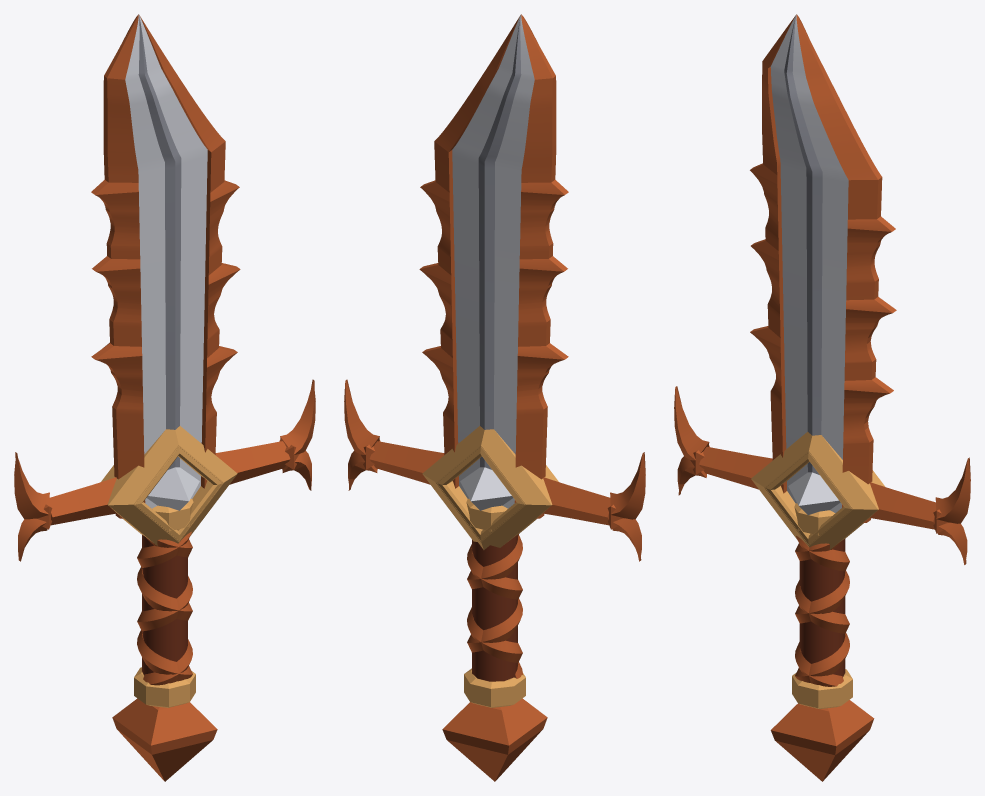
File: EpeeBronzeFer.fbx
3 views of the same model, side by side, from view 1: azimuth 30°, elevation 25°; view 2: azimuth 150°, elevation 25°; view 3: azimuth 330°, elevation 25° (orthographic).
Parts seen in each view (by area): view 1: Fil, Lame, Cadre, Gorge, Pommeau, Tresse, Bras, Embout, Manche, Garde, Gemme; view 2: Fil, Lame, Cadre, Gorge, Pommeau, Bras, Tresse, Embout, Manche, Garde, Gemme; view 3: Fil, Lame, Cadre, Gorge, Pommeau, Tresse, Bras, Embout, Manche, Garde, Gemme.
Boxes of the visible parts, x1,y1,x2,y2 form: Fil: [91, 14, 240, 518]; Lame: [125, 14, 207, 508]; Cadre: [101, 426, 237, 545]; Gorge: [138, 16, 181, 469]; Pommeau: [112, 698, 217, 781]; Tresse: [137, 531, 192, 685]; Bras: [49, 441, 290, 525]; Embout: [14, 379, 315, 561]; Manche: [142, 535, 187, 675]; Garde: [134, 498, 195, 707]; Gemme: [146, 467, 199, 510]; Fil: [419, 14, 568, 518]; Lame: [452, 14, 534, 508]; Cadre: [422, 426, 558, 549]; Gorge: [478, 16, 521, 469]; Pommeau: [442, 698, 547, 781]; Bras: [369, 441, 610, 525]; Tresse: [467, 533, 522, 678]; Embout: [344, 379, 645, 561]; Manche: [472, 536, 517, 681]; Garde: [464, 498, 525, 707]; Gemme: [460, 467, 513, 510]; Fil: [750, 14, 896, 522]; Lame: [770, 15, 848, 512]; Cadre: [751, 431, 885, 549]; Gorge: [784, 16, 822, 474]; Pommeau: [770, 700, 874, 781]; Tresse: [795, 536, 849, 686]; Bras: [699, 446, 936, 529]; Embout: [674, 386, 970, 564]; Manche: [799, 539, 845, 677]; Garde: [792, 503, 852, 708]; Gemme: [788, 472, 840, 515].
Bounding box in the file's own units: 172 × 423 × 48.
